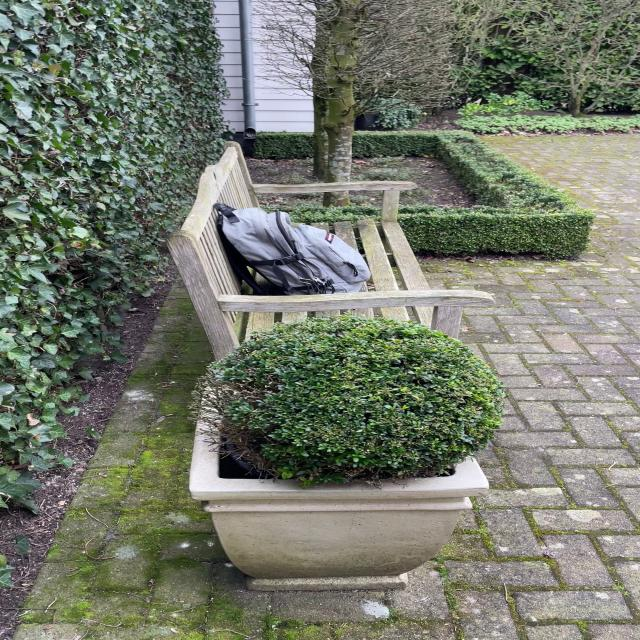backpack: (204, 200, 376, 298)
